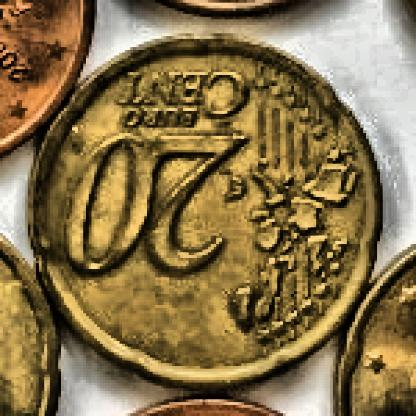coin: (22, 33, 390, 392)
